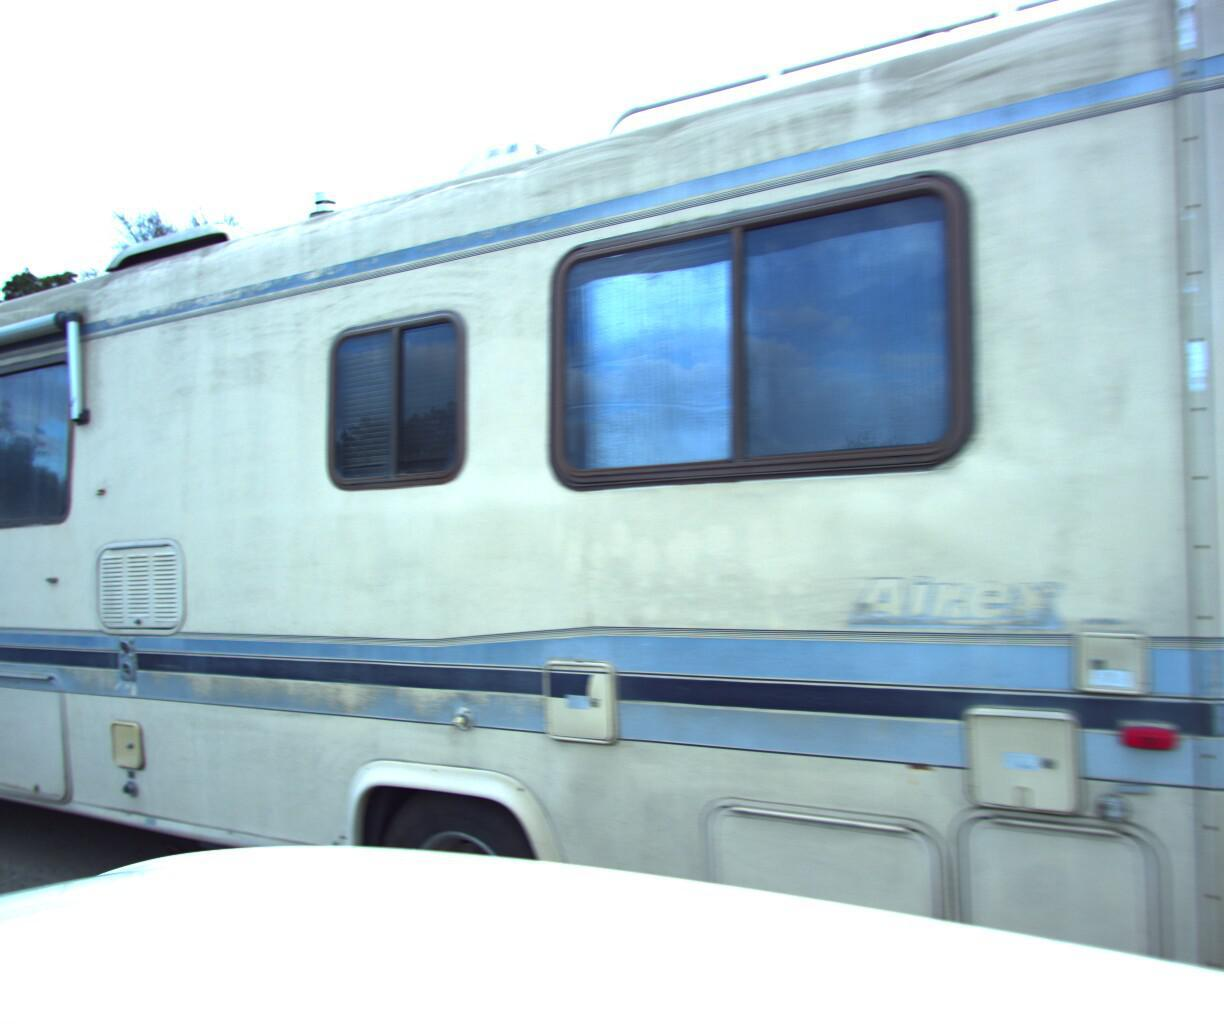car: (0, 546, 8, 763)
other_vehicle: (0, 0, 1224, 1024)
